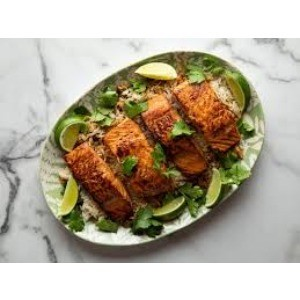salmon_brain food: (69, 84, 235, 224)
